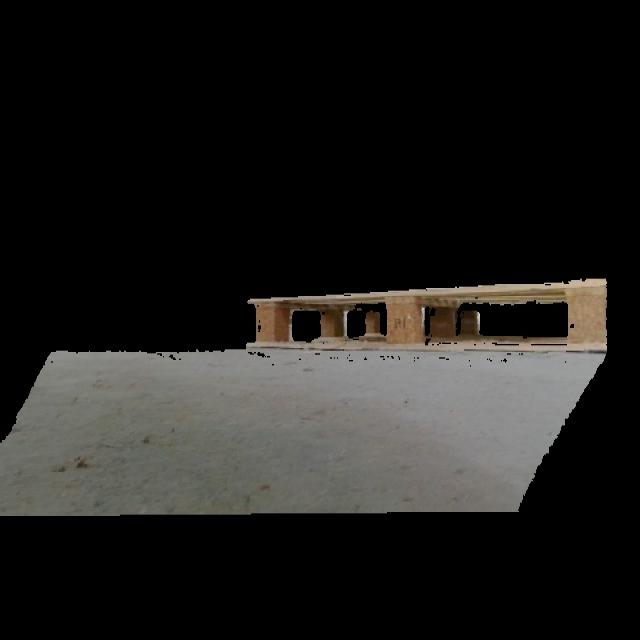block: (566, 284, 605, 352), (387, 294, 420, 350), (255, 298, 286, 344), (430, 296, 456, 335), (320, 308, 340, 340), (464, 302, 481, 336), (362, 304, 381, 334)
front: (246, 276, 607, 356)
